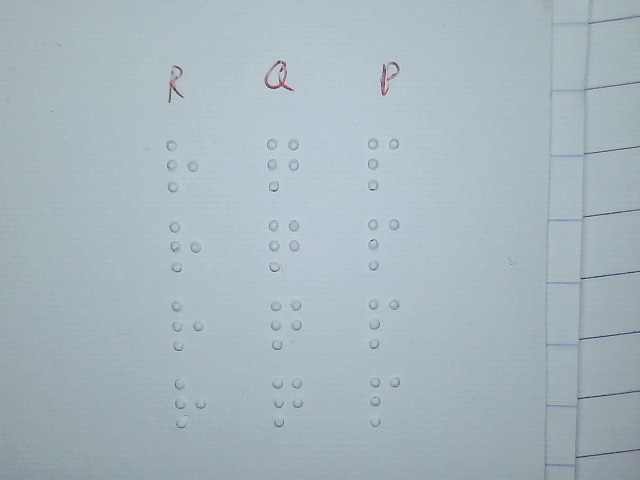P: (366, 136, 401, 190), (366, 216, 401, 270), (367, 297, 400, 348), (368, 375, 401, 426)
Q: (266, 137, 301, 191), (267, 218, 302, 272), (270, 298, 303, 350), (271, 375, 304, 427)
R: (165, 139, 200, 192), (168, 220, 203, 273), (171, 298, 206, 351), (173, 376, 208, 429)
